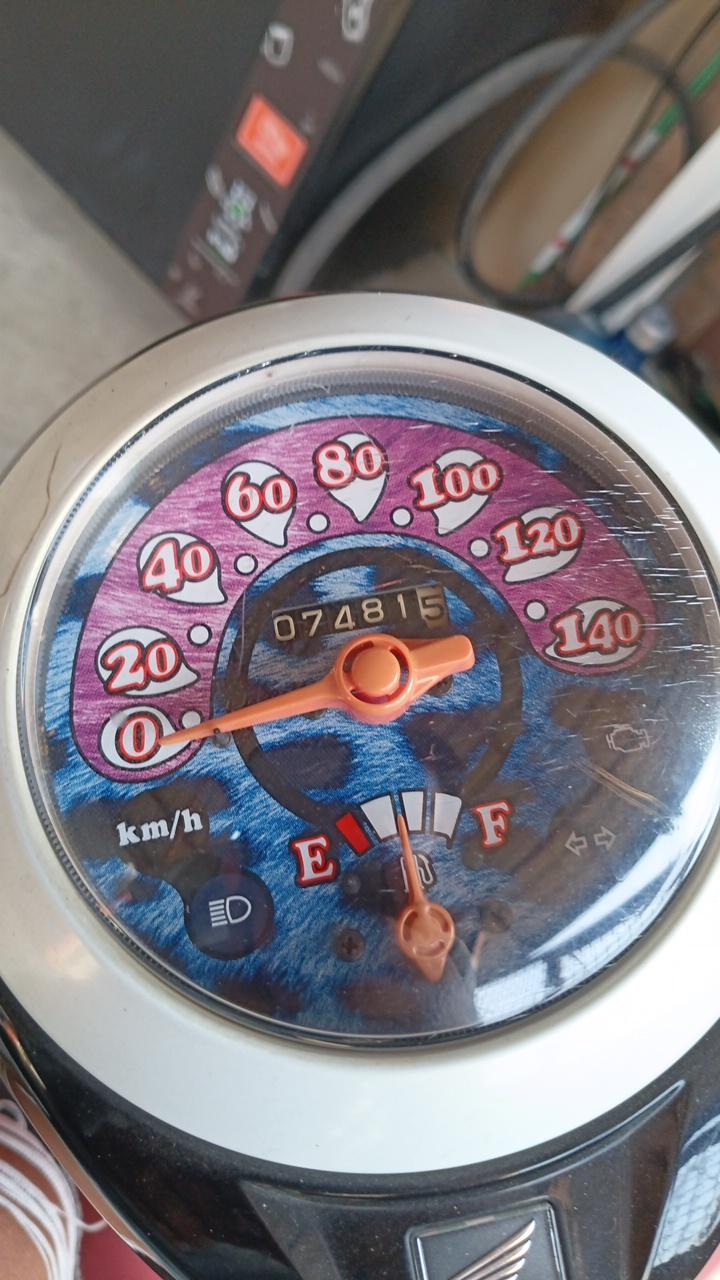0: (272, 614, 296, 642)
1: (396, 592, 408, 620)
4: (333, 604, 356, 631)
5: (420, 592, 445, 622)
7: (301, 608, 324, 638)
8: (361, 596, 385, 624)
odometer: (269, 580, 452, 648)
